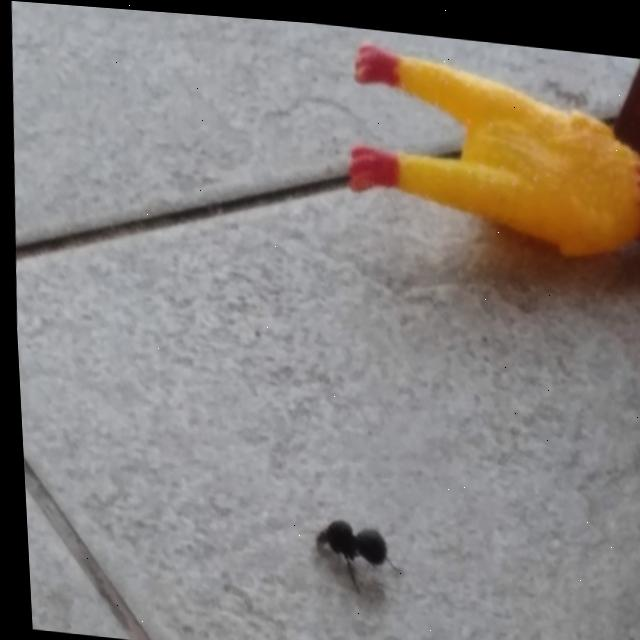Alive-Female-Dealate: (307, 512, 397, 593)
